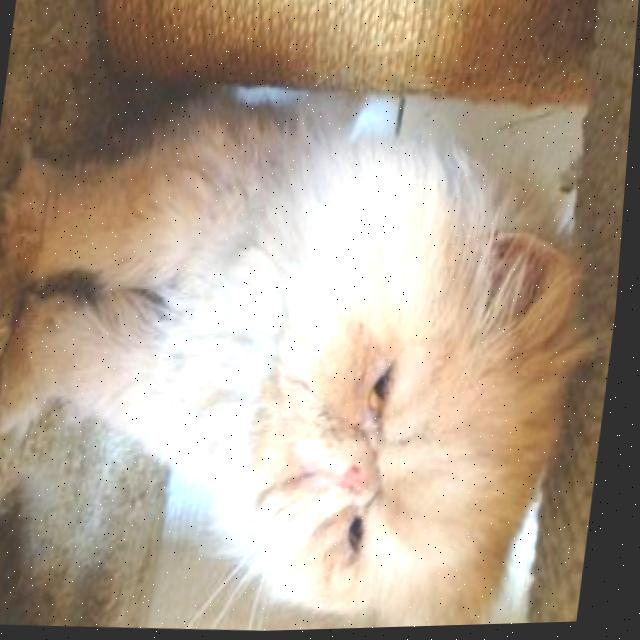Persian: (0, 75, 635, 640)
